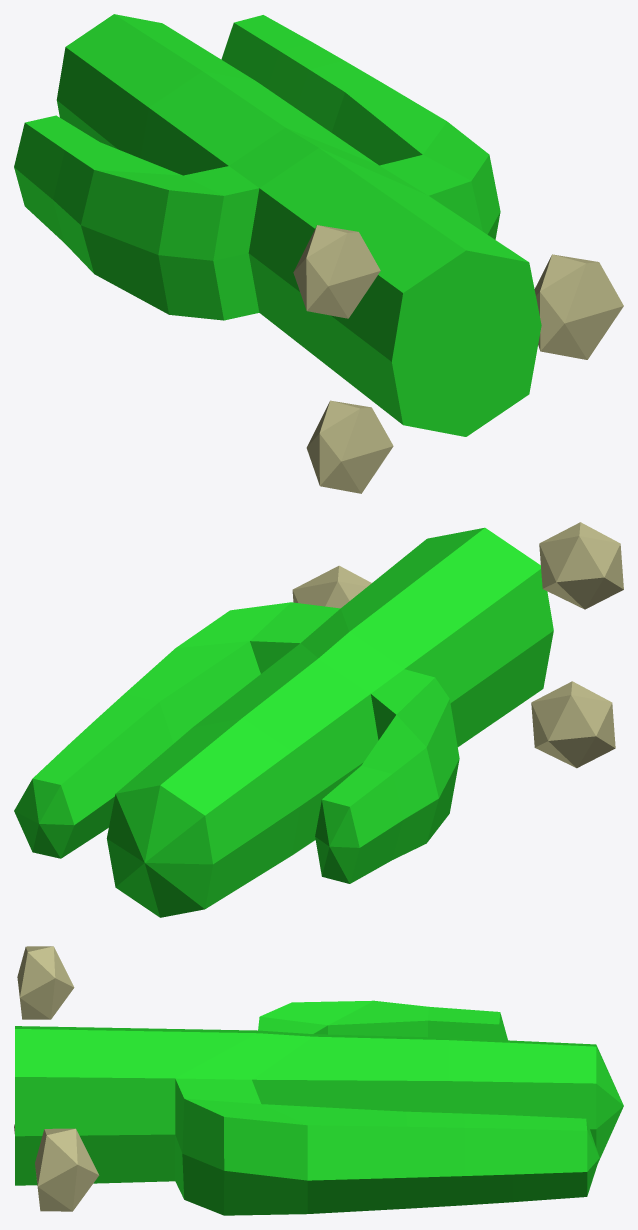
Rendered from lowpolycactus.fbx.
The picture shows the model from 3 angles, top to bottom: view 1: azimuth 30°, elevation 25°; view 2: azimuth 150°, elevation 25°; view 3: azimuth 270°, elevation 25°; orthographic projection. The views are drawn at different scales.
Parts seen in each view (by area): view 1: Cylinder; view 2: Cylinder; view 3: Cylinder.
Boxes of the visible parts, x1,y1,x2,y2 form: Cylinder: [14, 14, 623, 493]; Cylinder: [14, 522, 623, 917]; Cylinder: [14, 946, 623, 1215].
Bounding box in the file's own units: 14.71 × 10.31 × 26.66.
